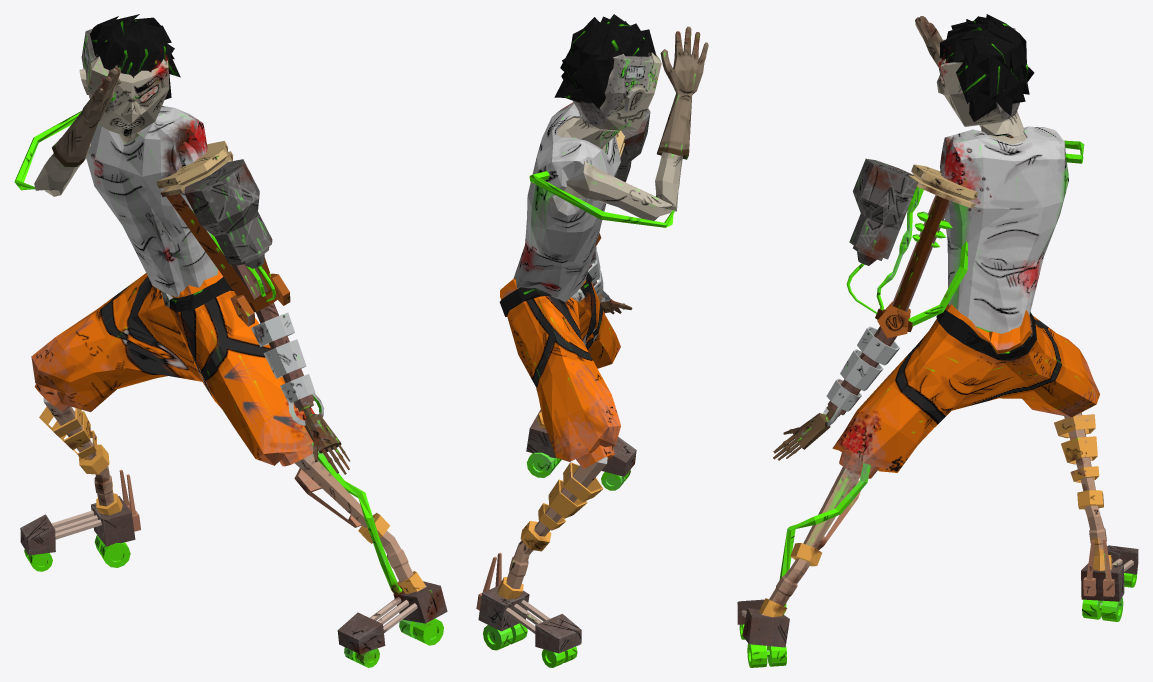
File: CyborgFINALAnimation_000068.obj
The picture shows the model from 3 angles, left to right: view 1: azimuth 30°, elevation 25°; view 2: azimuth 150°, elevation 25°; view 3: azimuth 270°, elevation 25°; orthographic projection. The views are drawn at different scales.
Visible parts, largest first — view 1: CyborgMesh_Cube.002; view 2: CyborgMesh_Cube.002; view 3: CyborgMesh_Cube.002.
Part boxes in pixels (x1,y1,x2,y2): CyborgMesh_Cube.002: (14,14,447,667); CyborgMesh_Cube.002: (476,14,708,667); CyborgMesh_Cube.002: (737,14,1138,667).
Bounding box in the file's own units: 4.23 × 8.63 × 5.44.
